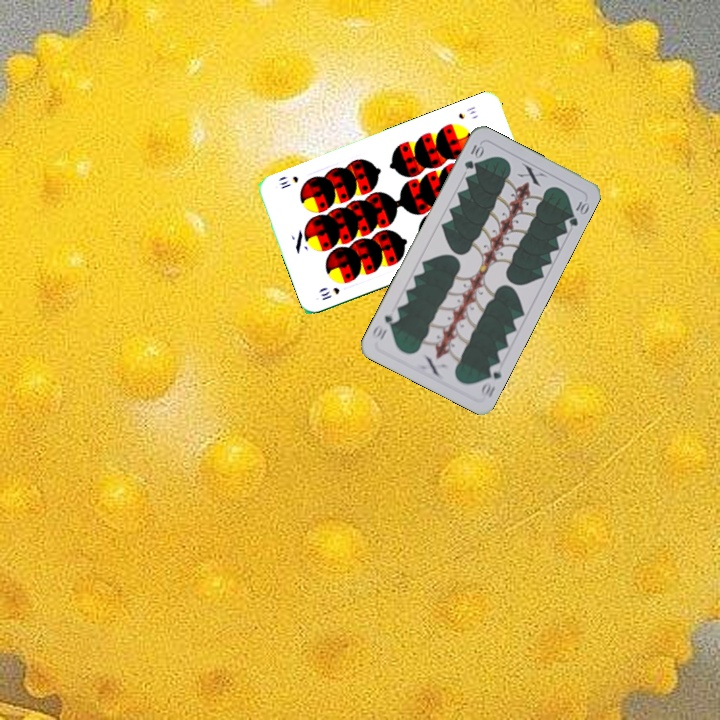G10: (477, 360, 505, 400), (460, 141, 486, 172)
S10: (317, 283, 342, 303), (454, 102, 479, 122)
